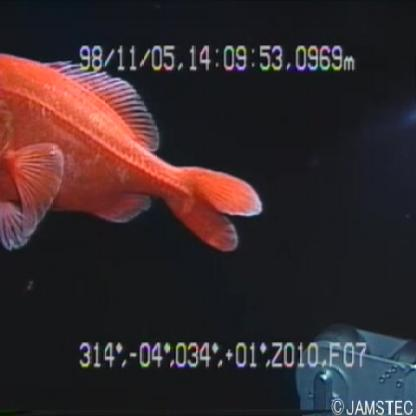Bio: (1, 50, 265, 262)
Rov: (294, 315, 416, 415)
